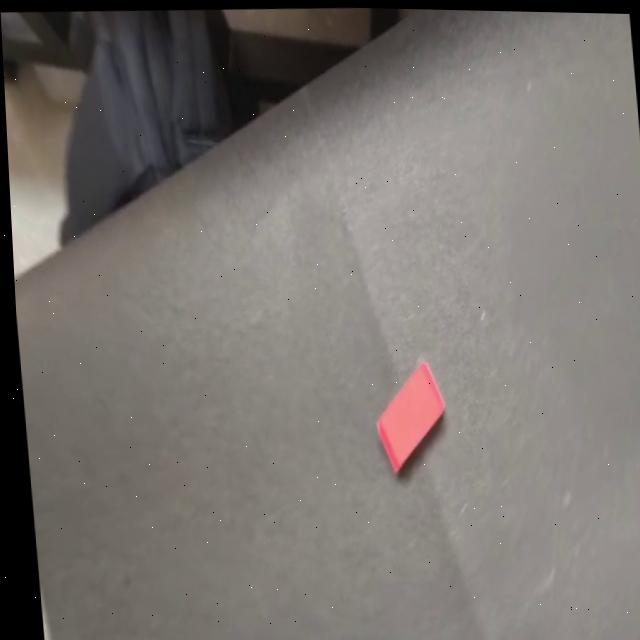red block: (369, 358, 451, 476)
